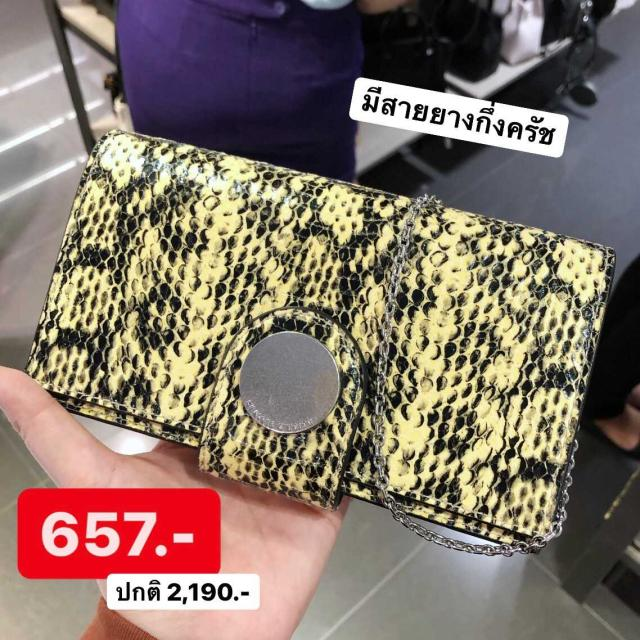bag: (13, 119, 623, 563)
